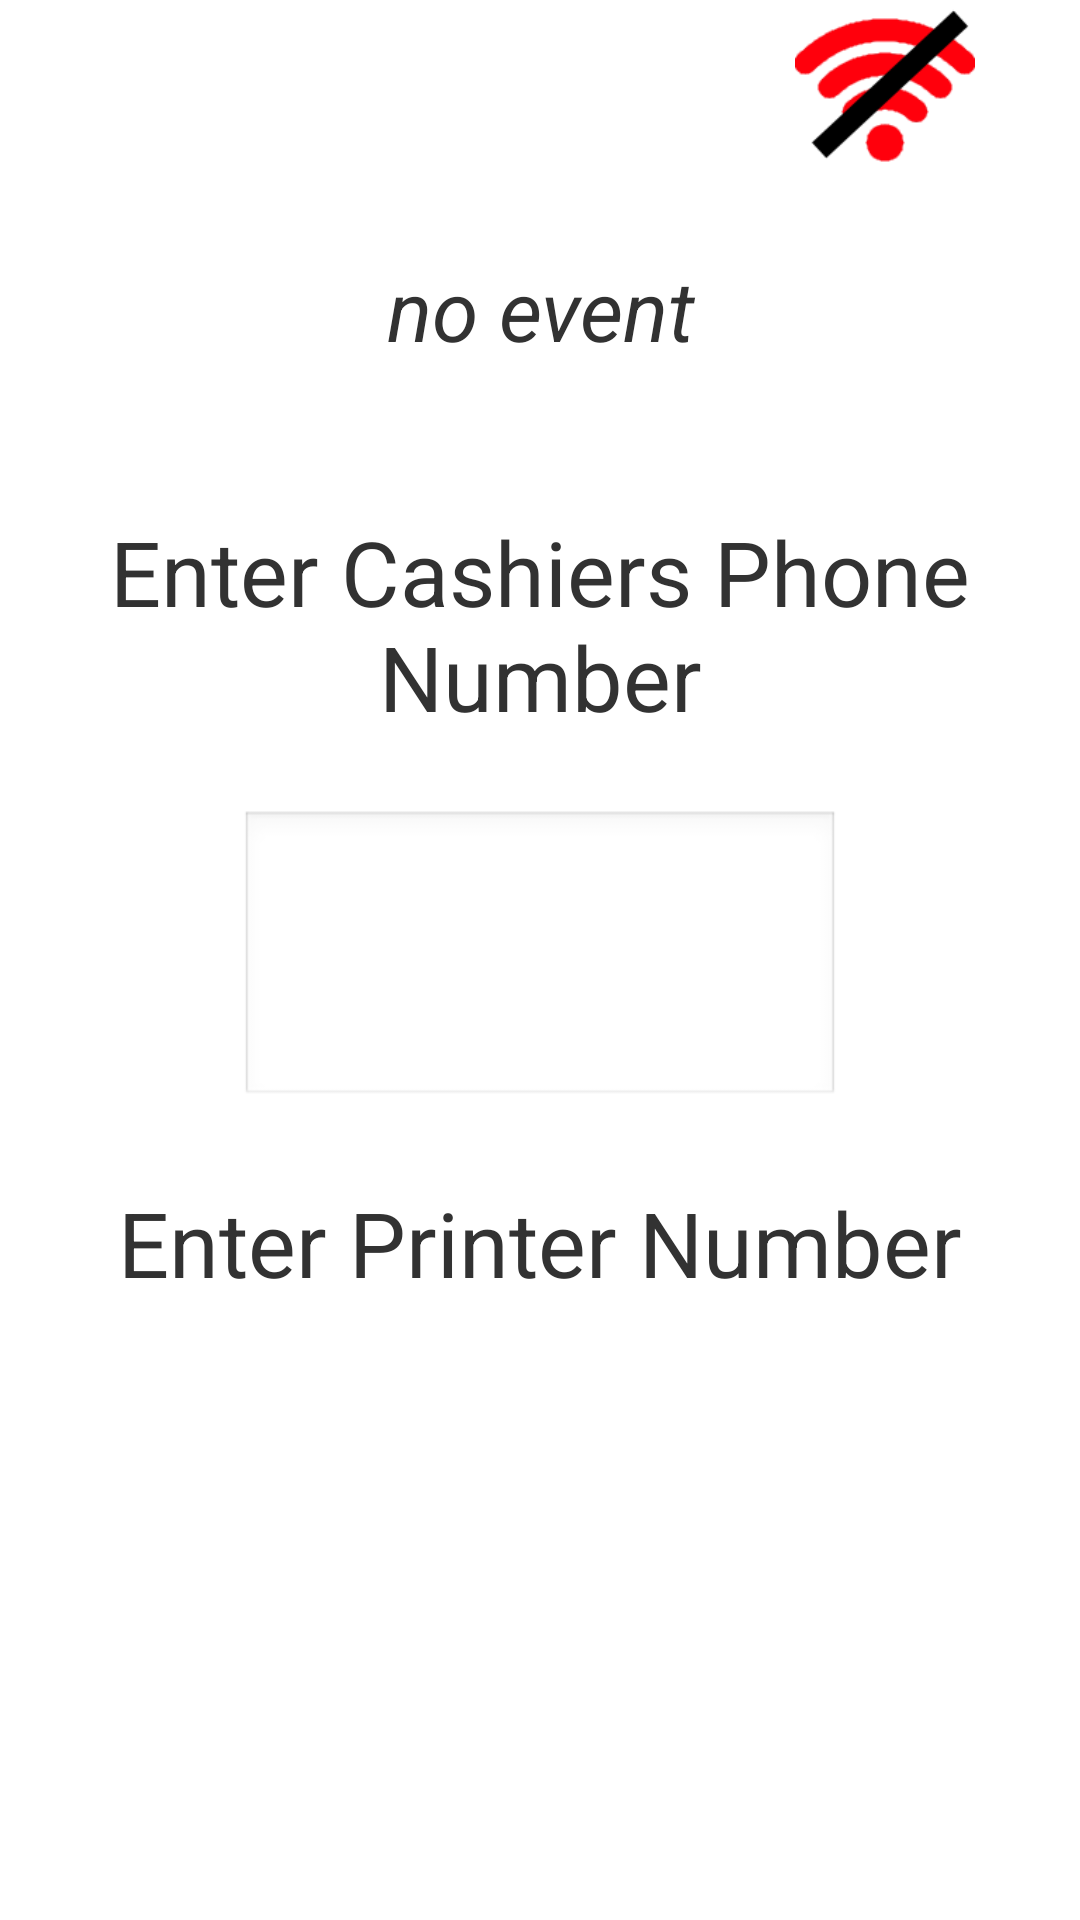

Named icons in this screenshot (1080 × 1920) and their bounding boxes, region(x1, y1, x2, y2):
wifi: region(795, 11, 975, 162)
